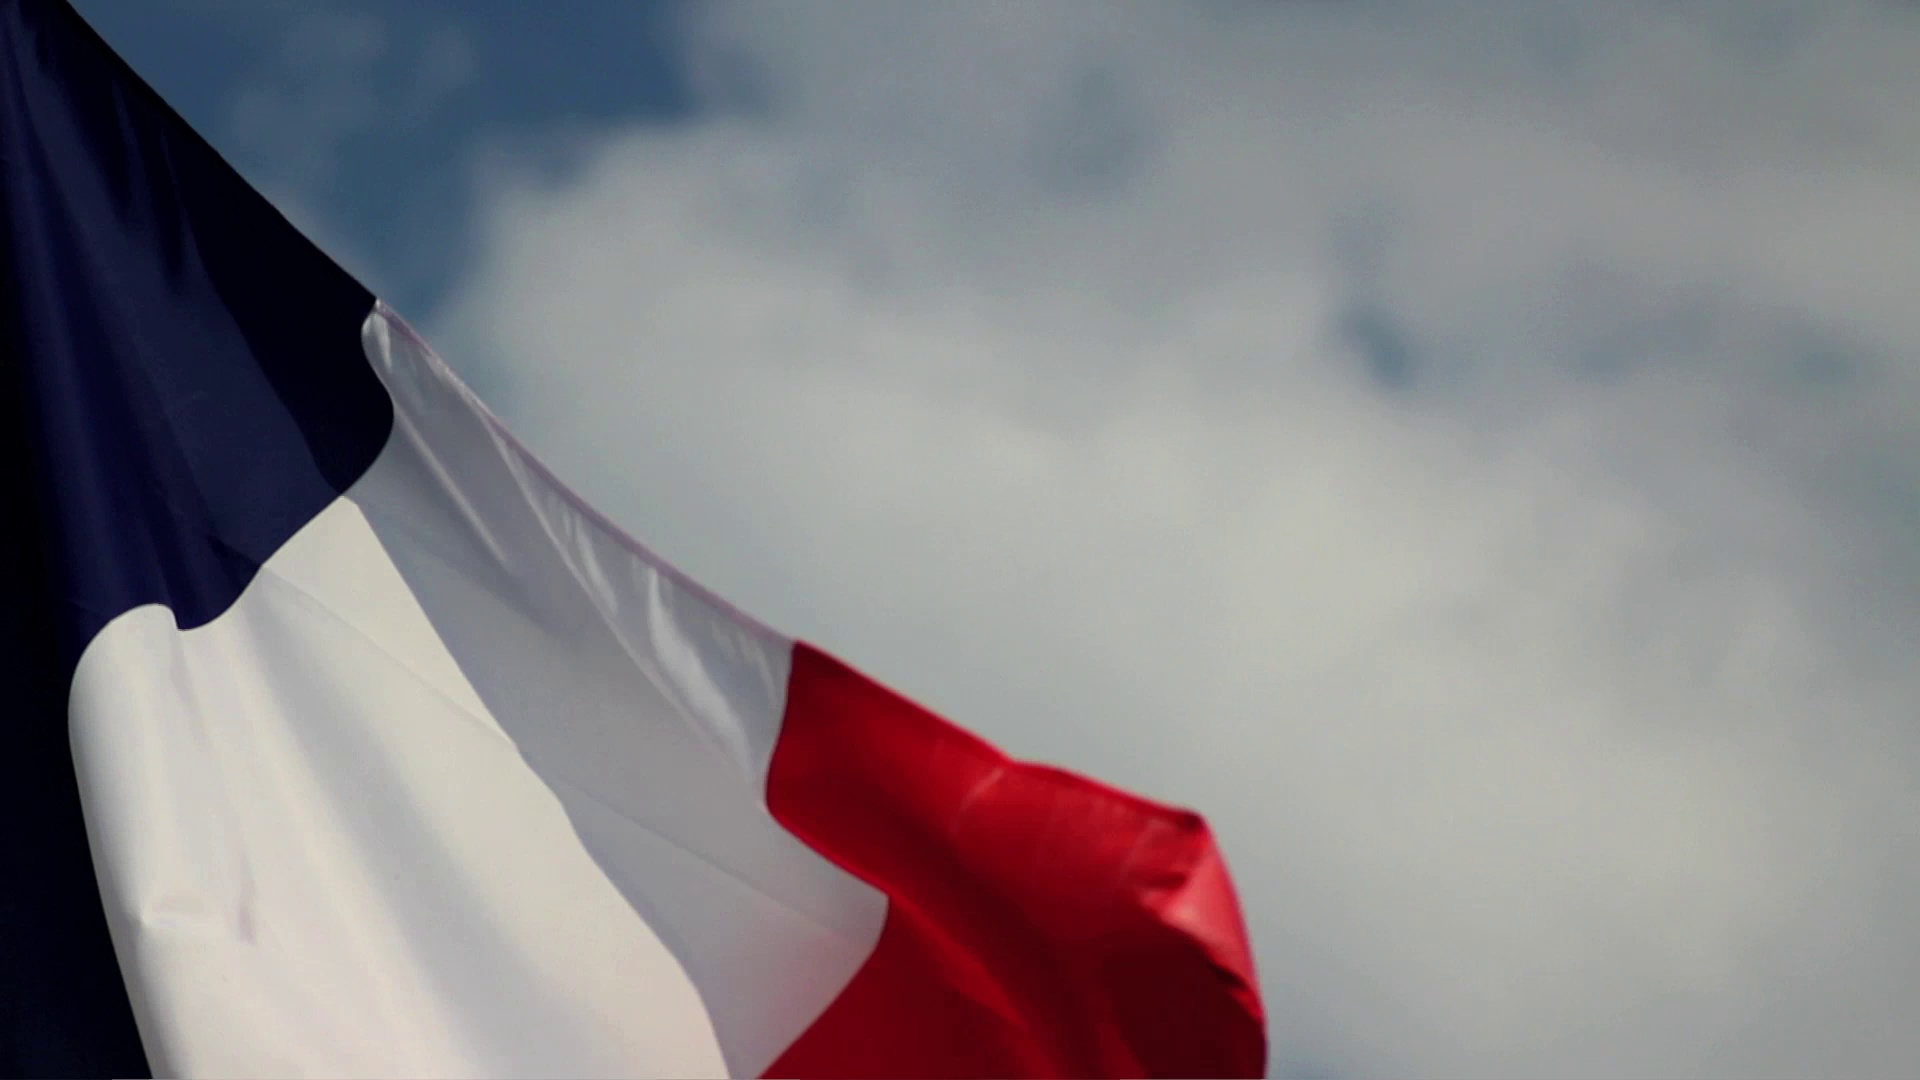French Flag: (1, 1, 1273, 1080)
